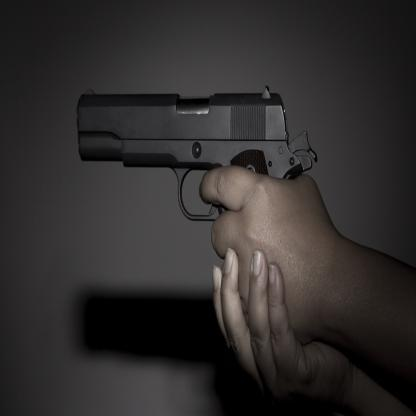gun: (74, 68, 318, 207)
